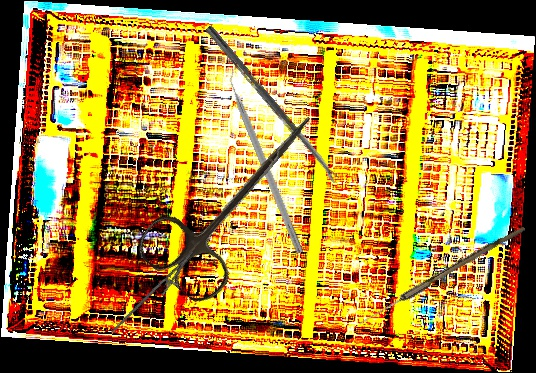Chopper: (222, 63, 314, 255)
Iris Scissors: (130, 83, 343, 311)
Needle Holder: (110, 242, 201, 347)
Surgical Spoon: (204, 25, 340, 184), (357, 222, 526, 329)
